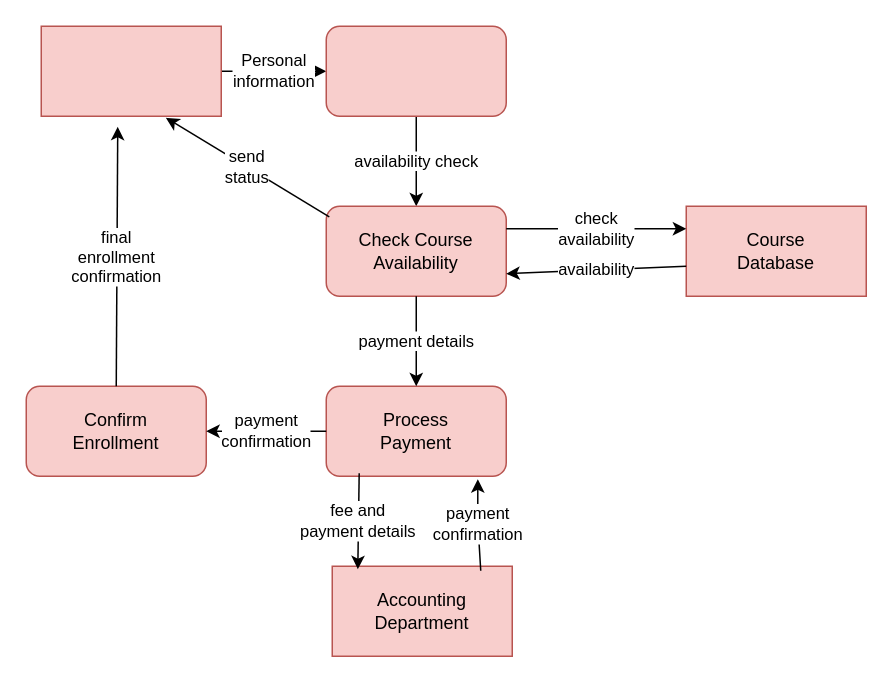
The diagram is 893 pixels wide and 683 high, and some of its shapes have lost their labels. Here are the shapes that lost their labels. From the top down, the centre of each, then its label:
point 130,70: Student
point 415,70: Student Enrollment
